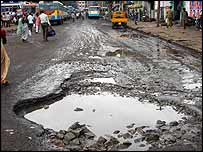pothole: (15, 76, 195, 144), (118, 30, 148, 41)
